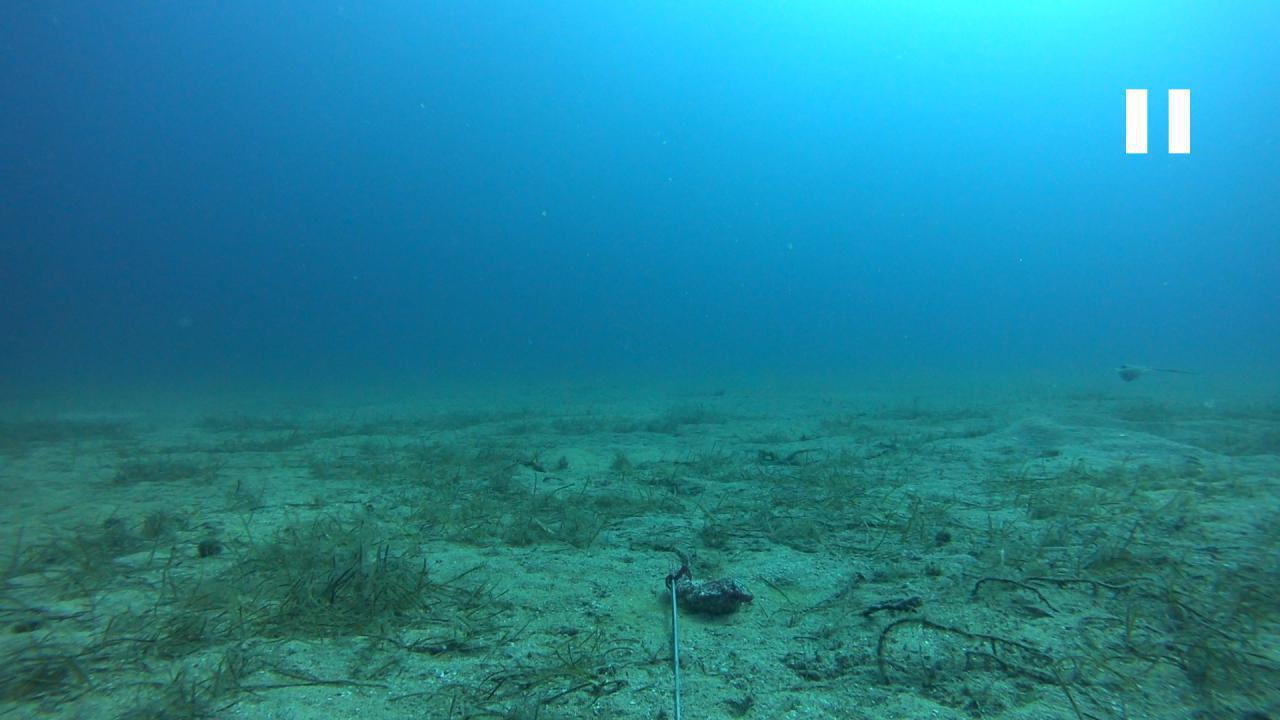dasyatis: (1116, 361, 1202, 380)
